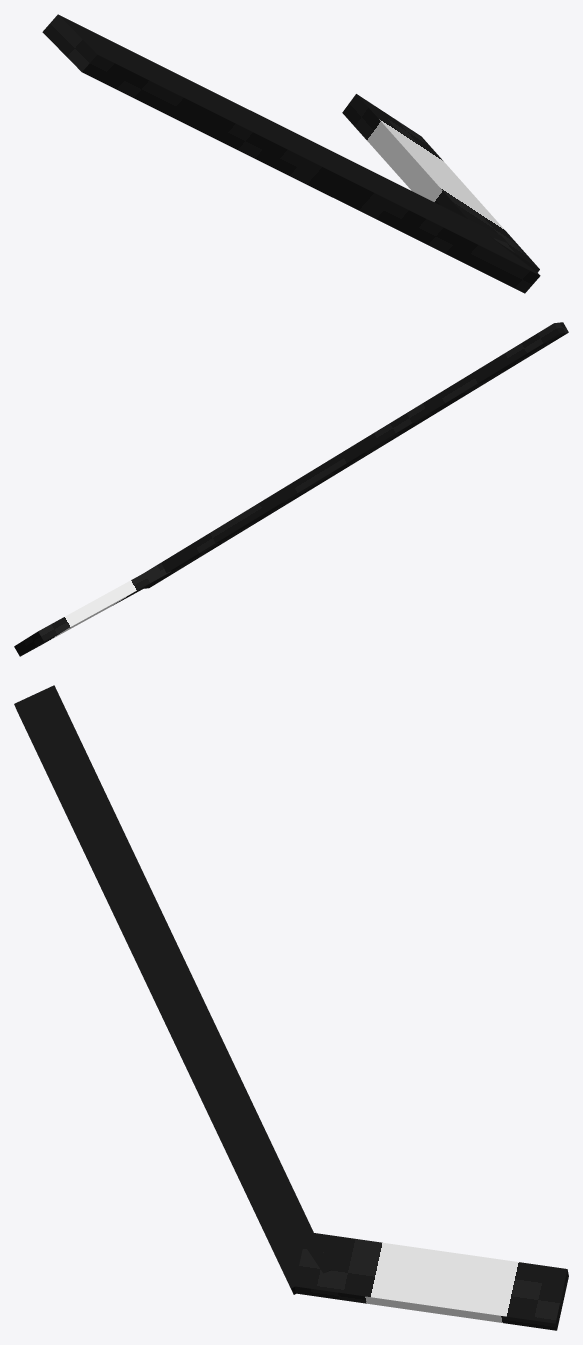
File: hockey-stick-controlled-right.gltf
The picture shows the model from 3 angles, top to bottom: view 1: azimuth 30°, elevation 25°; view 2: azimuth 150°, elevation 25°; view 3: azimuth 270°, elevation 25°; orthographic projection. The views are drawn at different scales.
Visible parts, largest first — view 1: geo_shaft_geom_0, geo_blade_geom_0; view 2: geo_shaft_geom_0, geo_blade_geom_0; view 3: geo_shaft_geom_0, geo_blade_geom_0.
Part boxes in pixels (x1=…): geo_shaft_geom_0: x1=42, y1=14, x2=540, y2=293; geo_blade_geom_0: x1=342, y1=94, x2=539, y2=272; geo_shaft_geom_0: x1=142, y1=322, x2=568, y2=588; geo_blade_geom_0: x1=14, y1=563, x2=170, y2=656; geo_shaft_geom_0: x1=14, y1=685, x2=331, y2=1294; geo_blade_geom_0: x1=294, y1=1233, x2=568, y2=1330.
Bounding box in the file's own units: 0.9769 × 0.7326 × 0.9127.
Materials: 2 (2 with a texture image).
